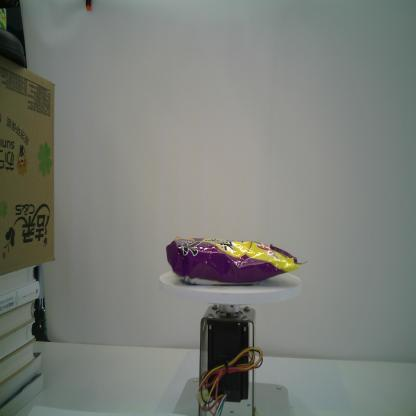Instant Noodles: (165, 235, 309, 286)
